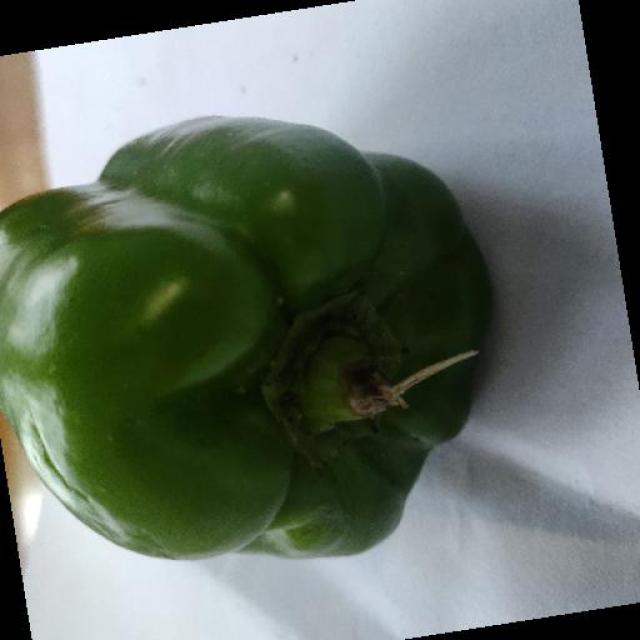Fresh_Capsicum: (11, 112, 506, 556)
